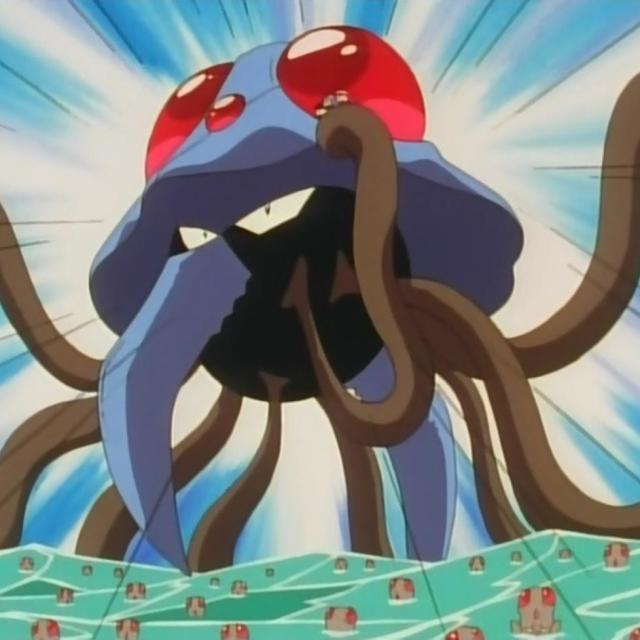Tentacruel: (59, 36, 545, 534)
